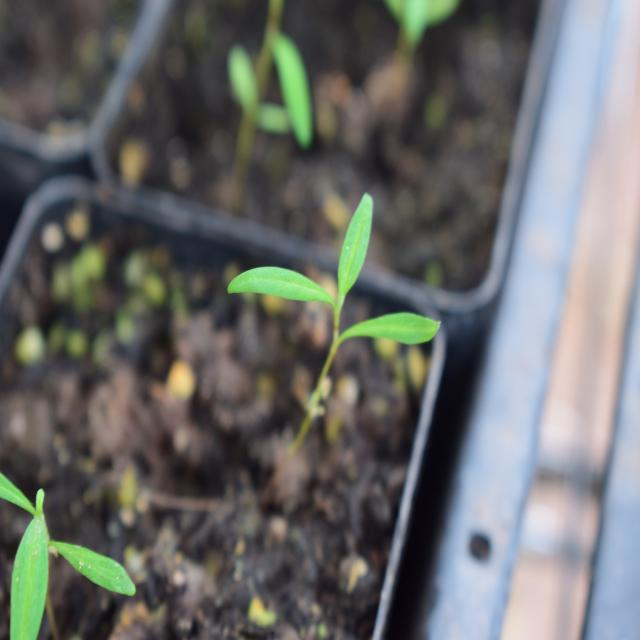white_smart_weed: (200, 160, 444, 402)
